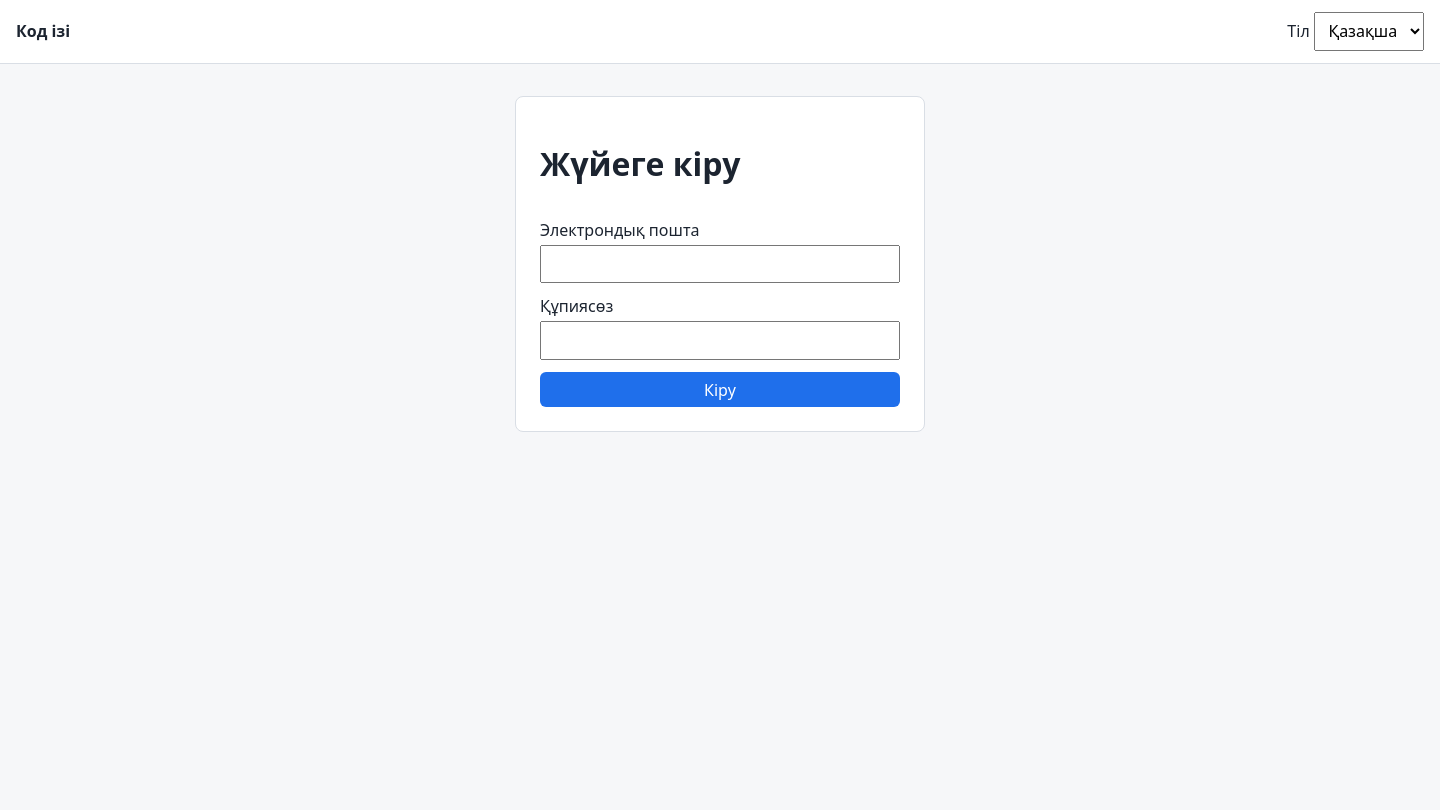
sec14 second factor and consent › sec14: login asks for the authenticator code and sends it
Type "student@example.com" into the field labelled "Электрондық пошта" at (720, 264), box top-left (540, 245), bottom-right (900, 284)
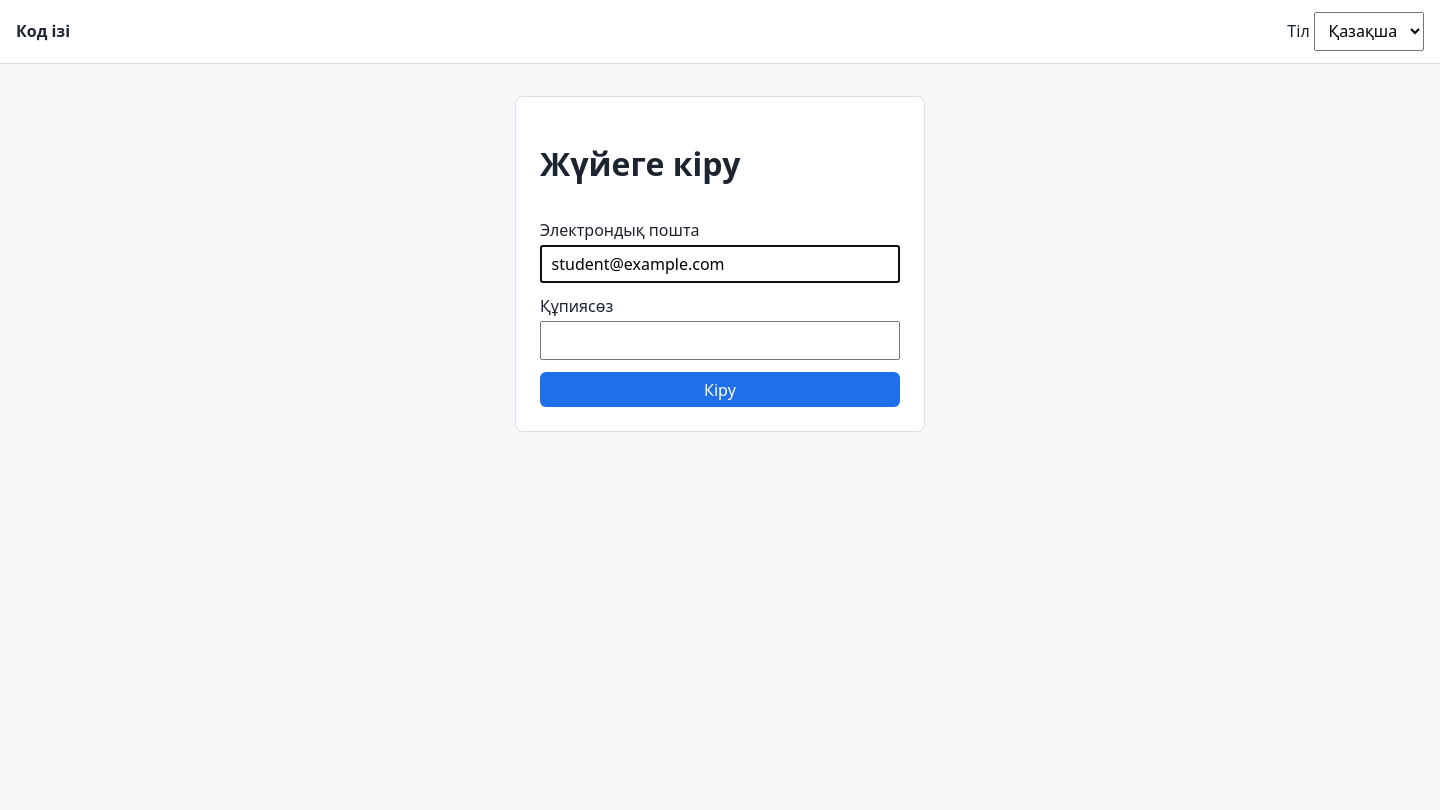
Type "correct-password" into the password field labelled "Құпиясөз" at (720, 341), box top-left (540, 321), bottom-right (900, 360)
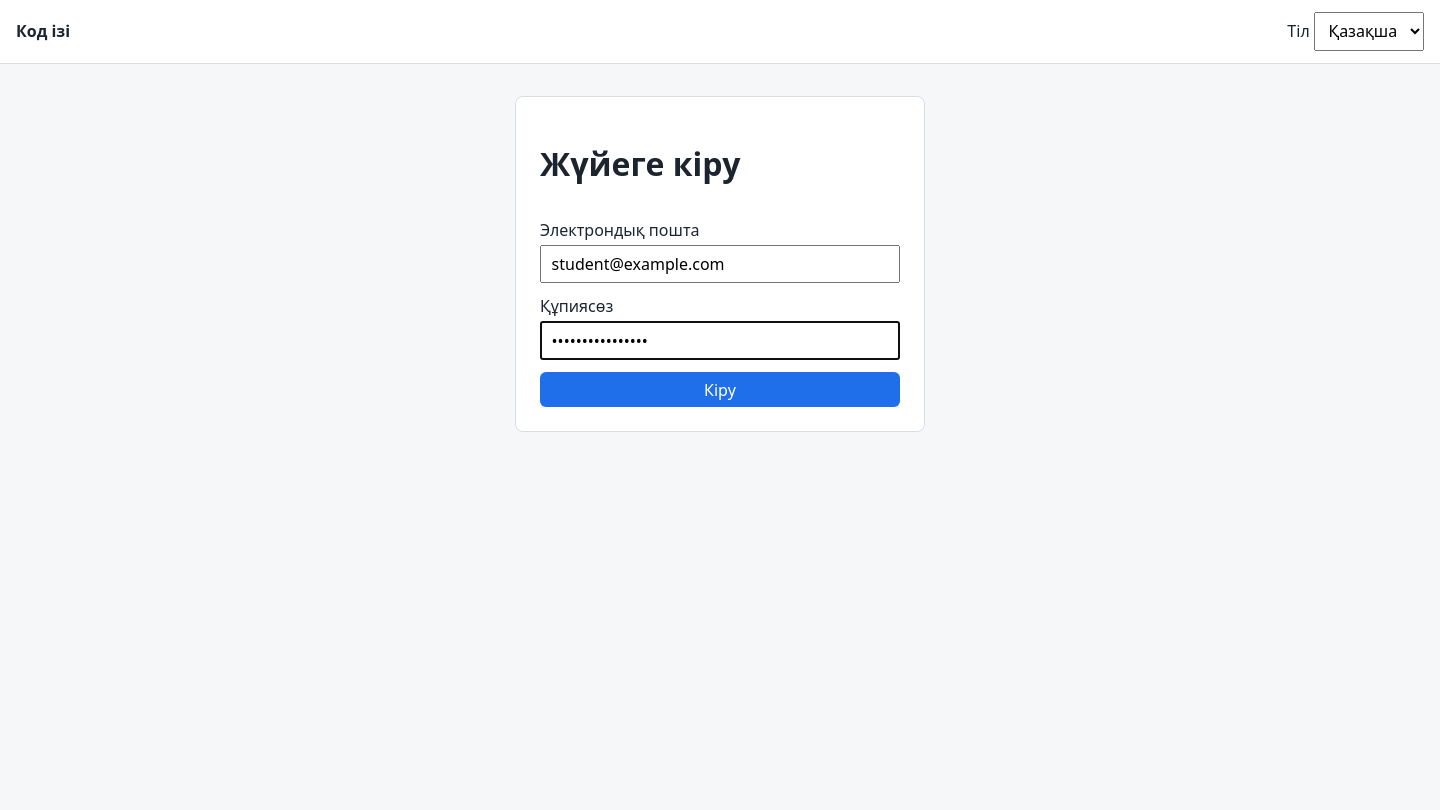
Click the button "Кіру" at (720, 390), box top-left (540, 372), bottom-right (900, 407)
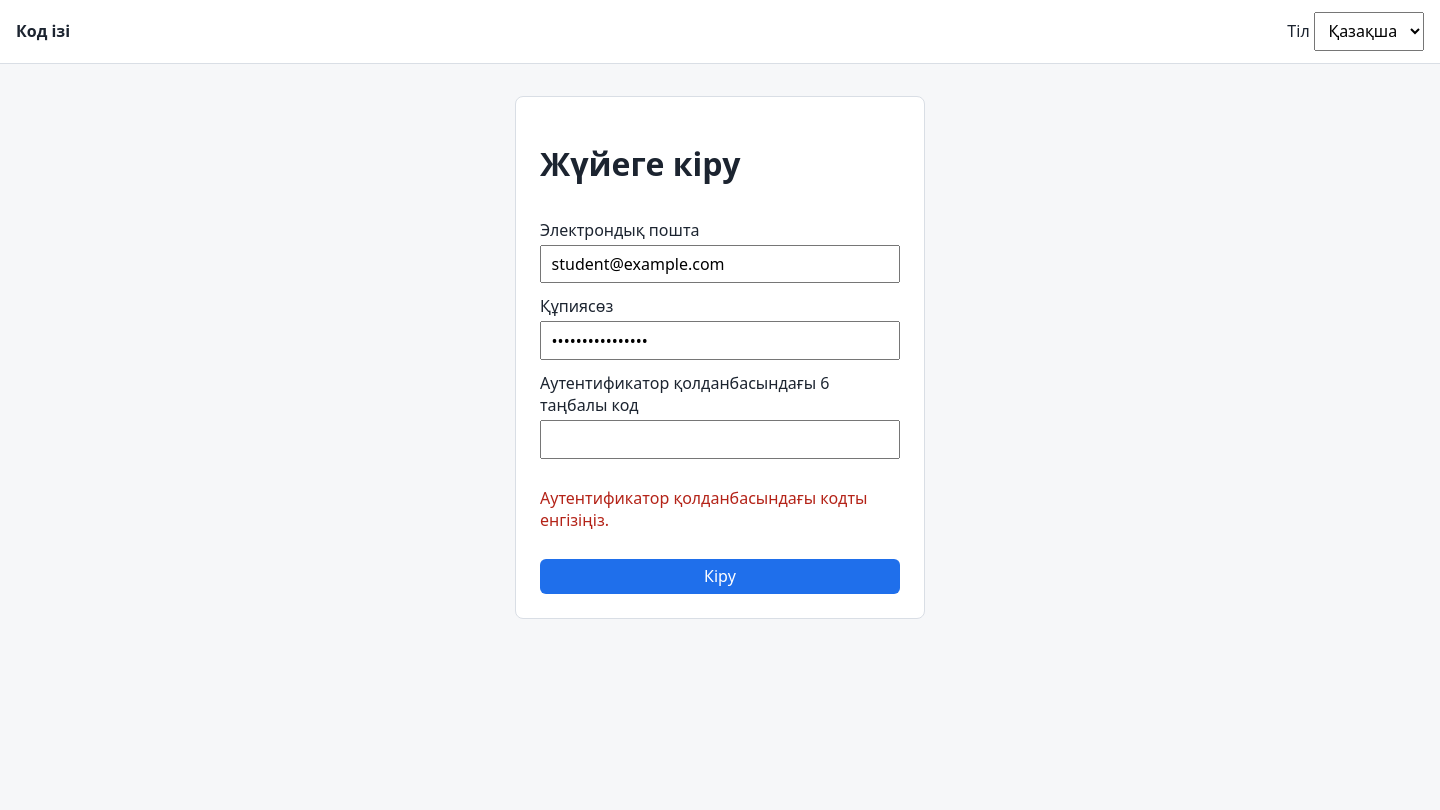
Expected: the message shows "кодты енгізіңіз", top-left (540, 487), bottom-right (868, 531)
Type "123456" into the field labelled "Аутентификатор қолданбасындағы 6 таңбалы код" at (720, 440), box top-left (540, 420), bottom-right (900, 459)
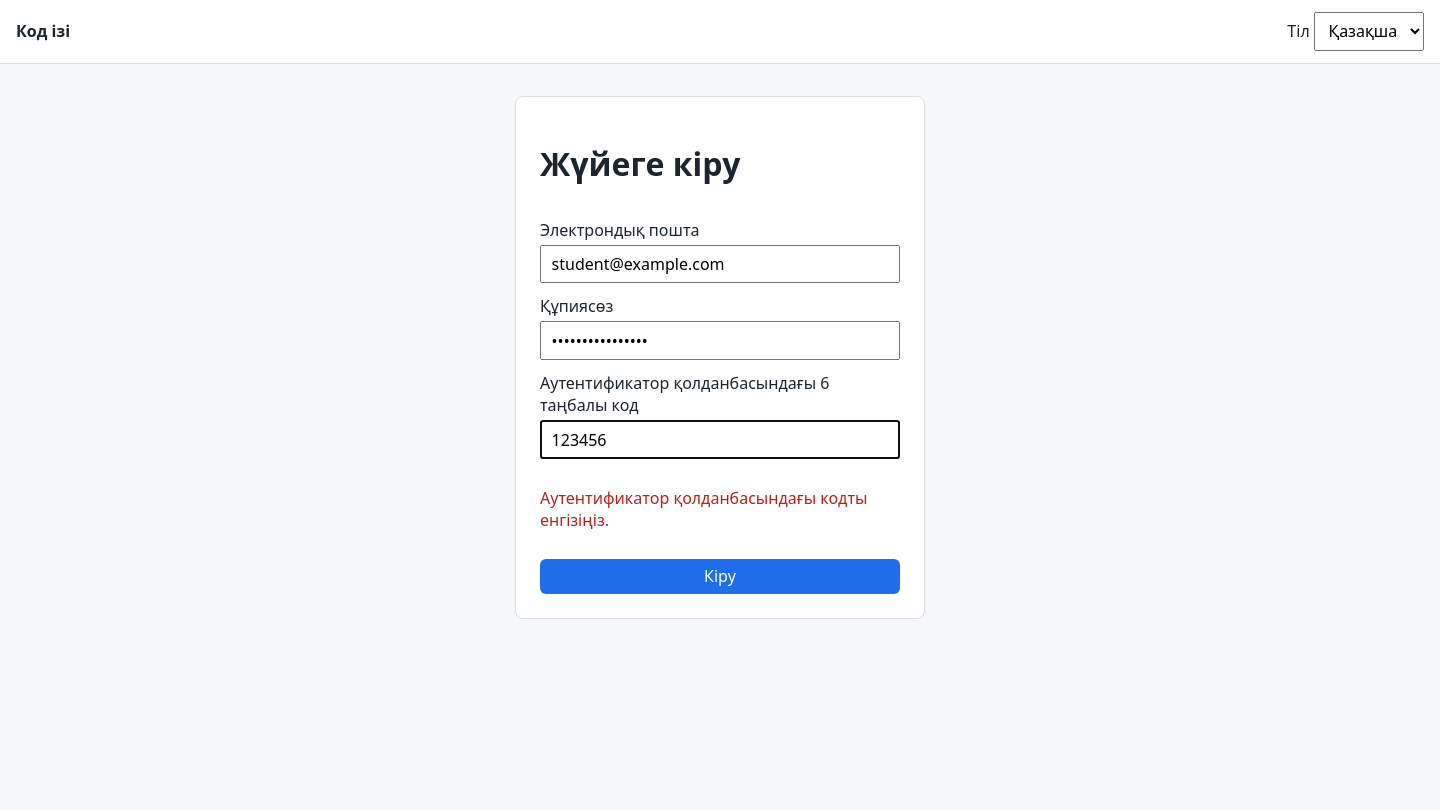
Click the button "Кіру" at (720, 576), box top-left (540, 559), bottom-right (900, 594)
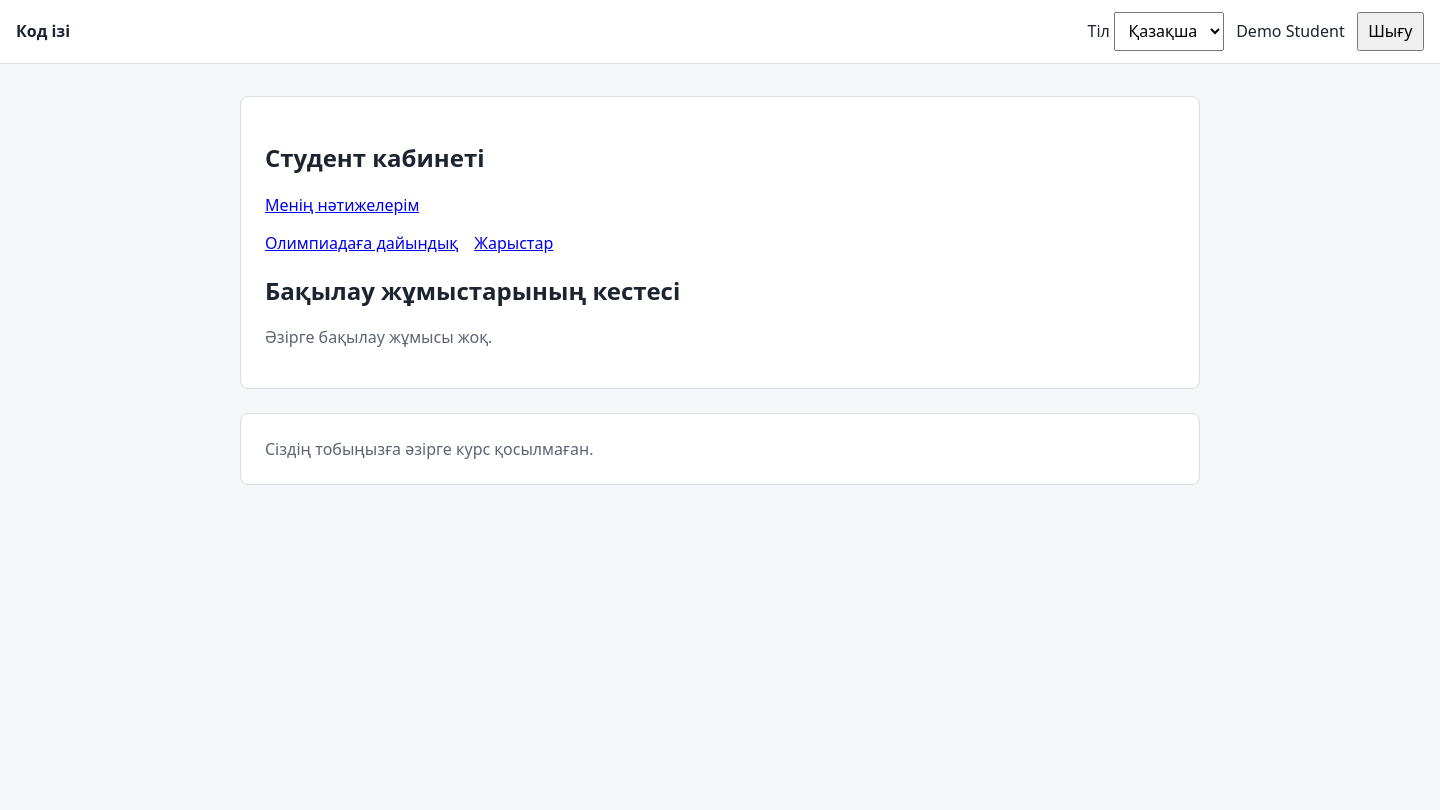
Expected: the heading "Студент кабинеті" is shown, top-left (265, 141), bottom-right (484, 174)
